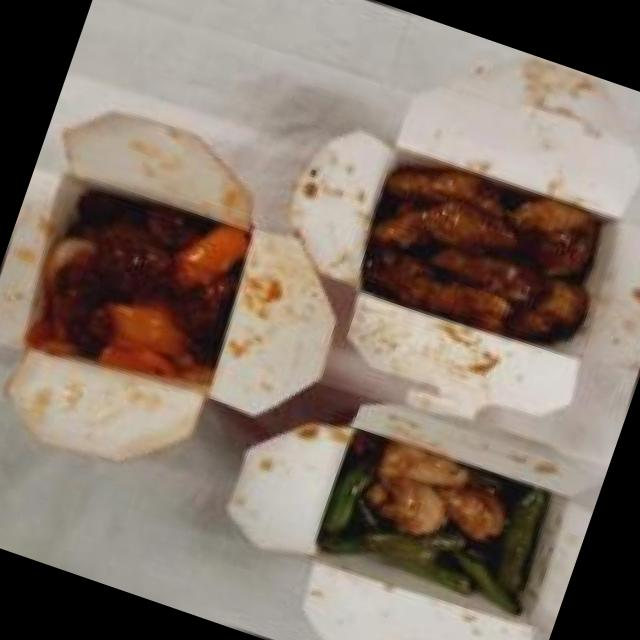Beijing Beef: (12, 165, 268, 408)
String Bean Chicken Breast: (304, 414, 571, 634)
The Original Orange Chicken: (340, 132, 627, 372)
